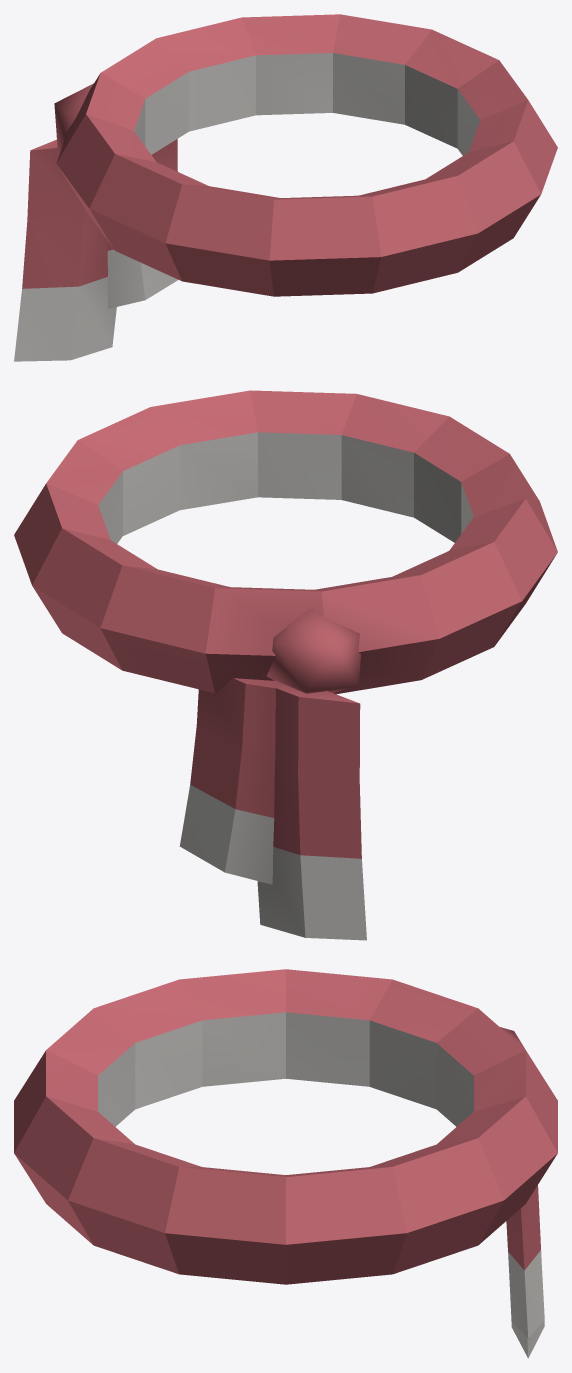
The model's file is resident_scarf_red_low.glb.
3 views of the same model, one above another, from view 1: azimuth 30°, elevation 25°; view 2: azimuth 150°, elevation 25°; view 3: azimuth 270°, elevation 25° (orthographic). The views are drawn at different scales.
Bounding box in the file's own units: 1.52 × 0.9975 × 1.48.
